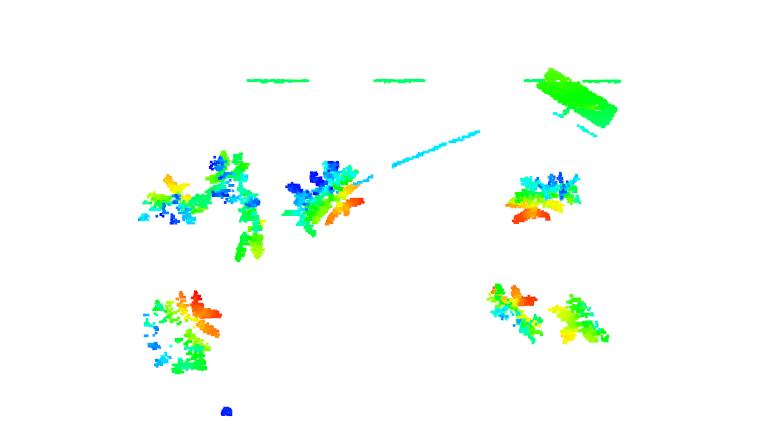chickpea: (205, 148, 267, 261), (143, 290, 222, 376), (282, 160, 363, 236), (135, 173, 211, 228), (505, 172, 580, 225), (487, 280, 547, 346), (550, 292, 609, 346)
